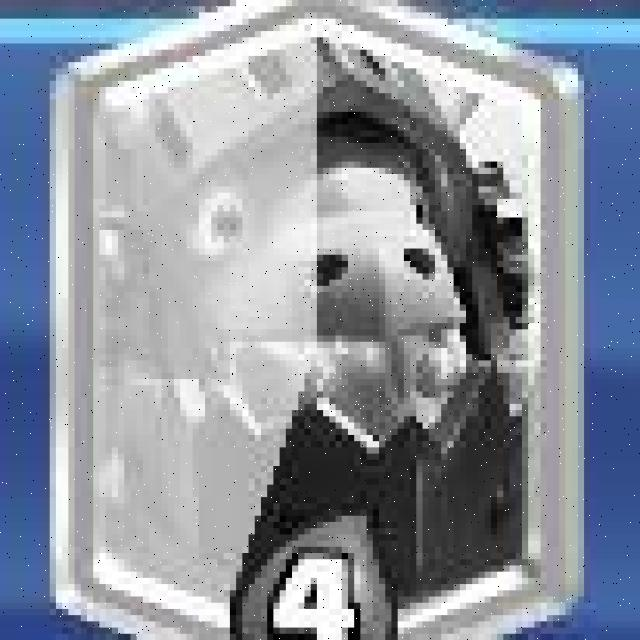Inferno_Dragon: (75, 0, 586, 640)
